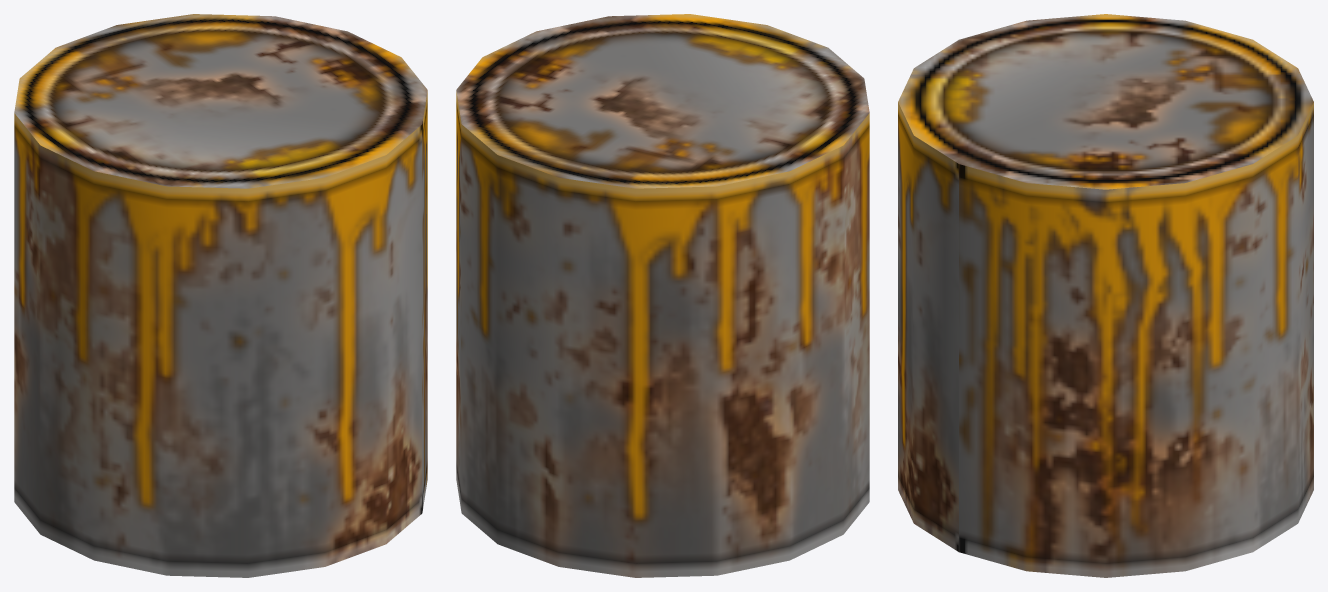
The model's file is ITEM_paintCan01.fbx.
3 views of the same model, side by side, from view 1: azimuth 30°, elevation 25°; view 2: azimuth 150°, elevation 25°; view 3: azimuth 270°, elevation 25° (orthographic).
Parts seen in each view (by area): view 1: ITEM_paintCan01; view 2: ITEM_paintCan01; view 3: ITEM_paintCan01.
Part boxes in pixels (left/top/right/bottom): ITEM_paintCan01: left=14, top=14, right=427, bottom=577; ITEM_paintCan01: left=456, top=14, right=869, bottom=577; ITEM_paintCan01: left=898, top=14, right=1313, bottom=577.
Size of the model in its own units: 12.04 by 12.4 by 12.04.
